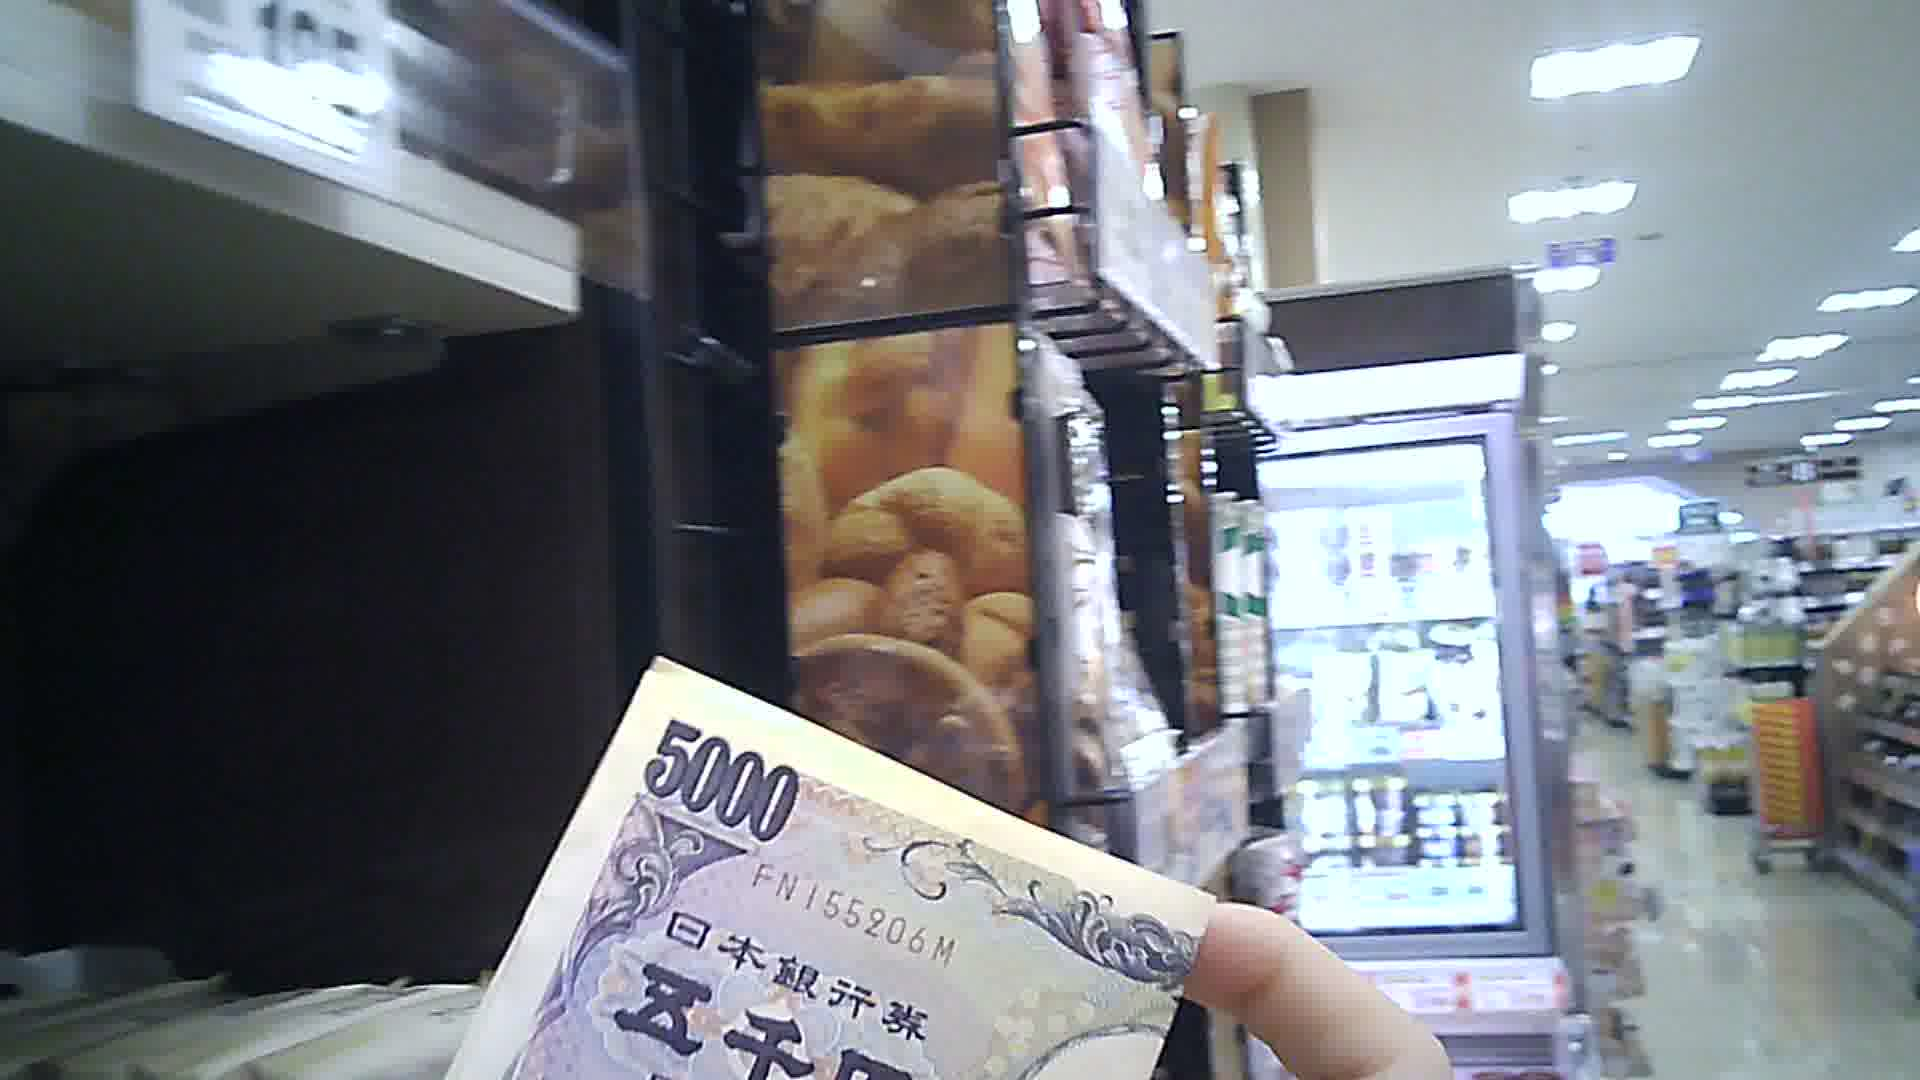5,000 Yen: (430, 659, 1213, 1079)
